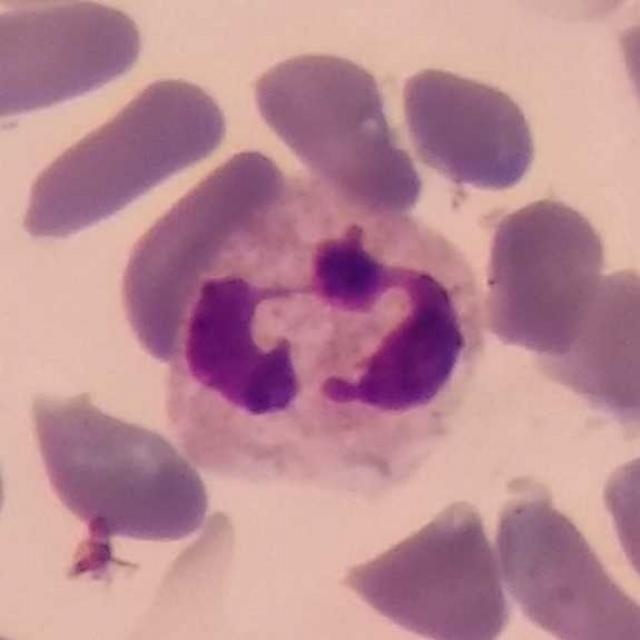Neutrophil: (160, 193, 495, 485)
RBC: (112, 145, 328, 374), (11, 68, 235, 250), (246, 42, 431, 225), (22, 385, 218, 549), (332, 492, 516, 640), (487, 477, 640, 639), (478, 192, 612, 355), (395, 60, 543, 196), (0, 0, 149, 128), (532, 261, 640, 428), (596, 436, 640, 609), (606, 1, 640, 150)
